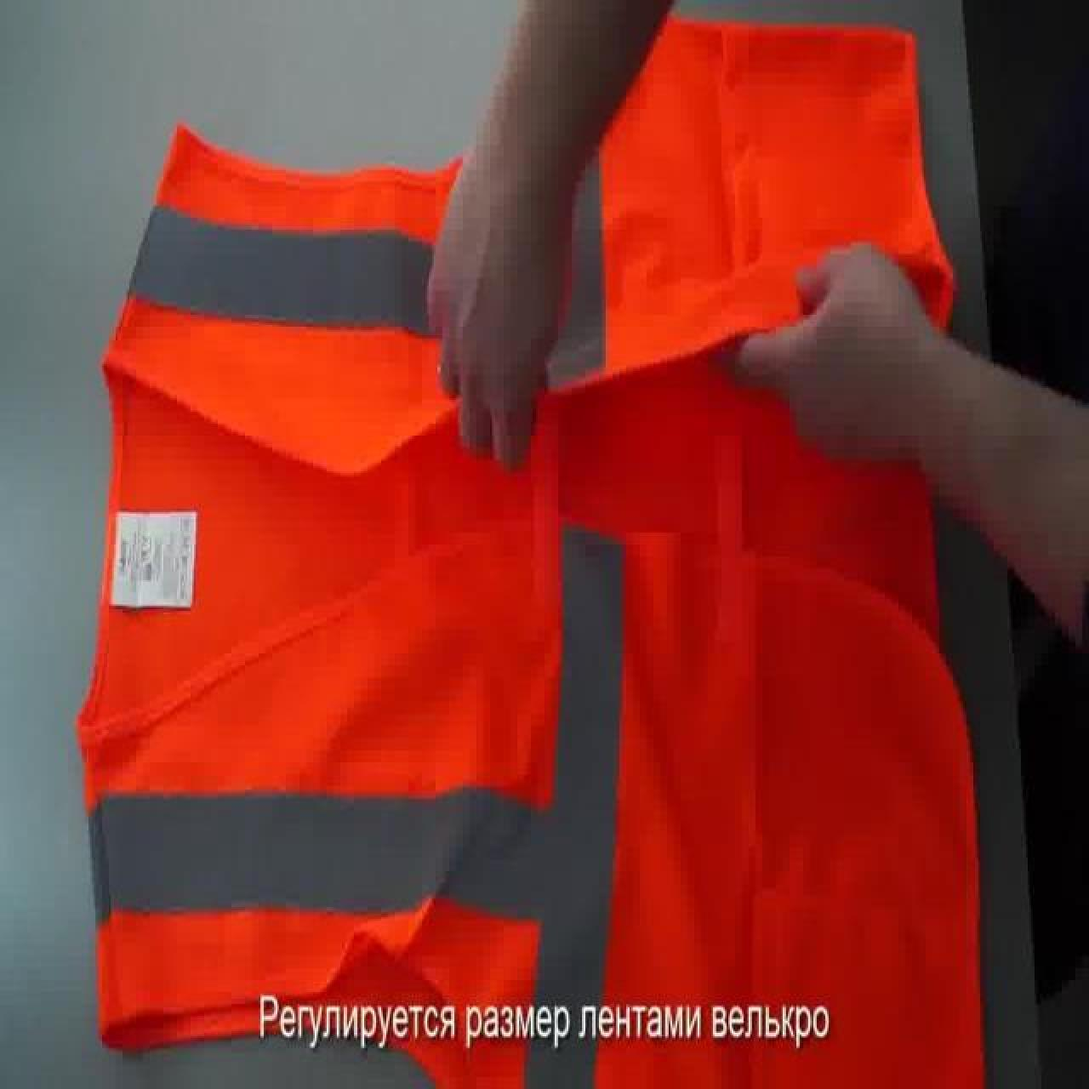Safety_Vest: (77, 0, 985, 1089)
